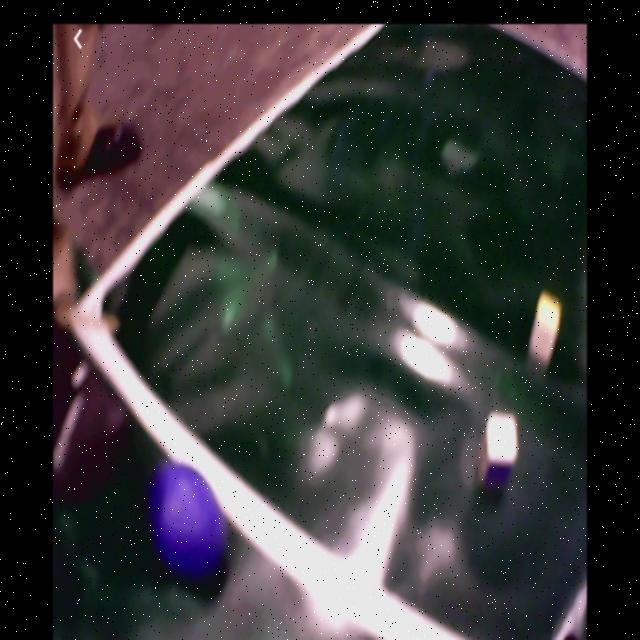ball: (155, 465, 223, 572)
